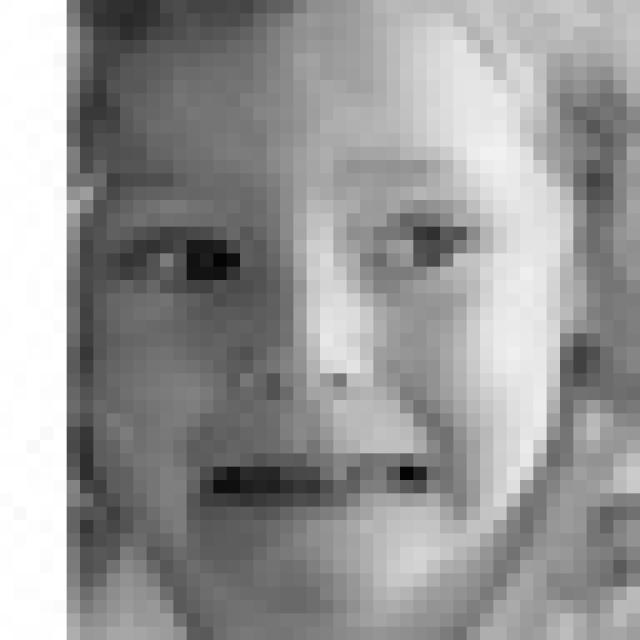fear: (102, 152, 500, 550)
